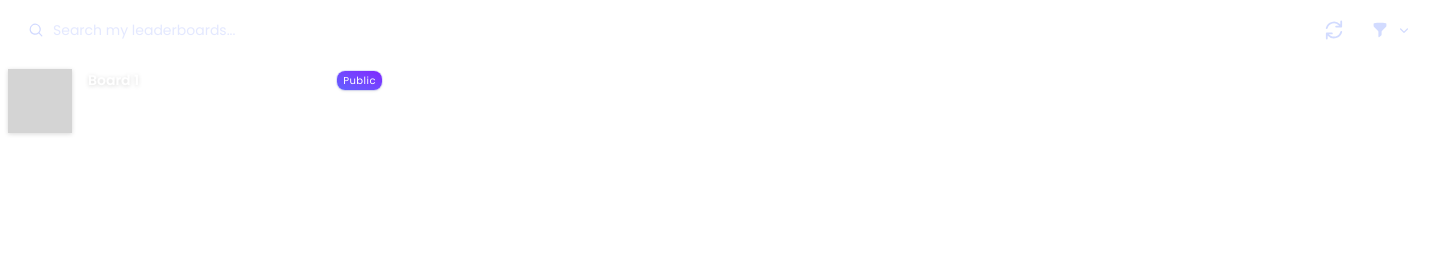
Test: LeaderboardMy.vue › opens filter menu when clicked
What coordinates should you click on to do the following:
click the button named "Filter"
I would click on:
 (1392, 30)
Its box is [1360,16,1424,44].
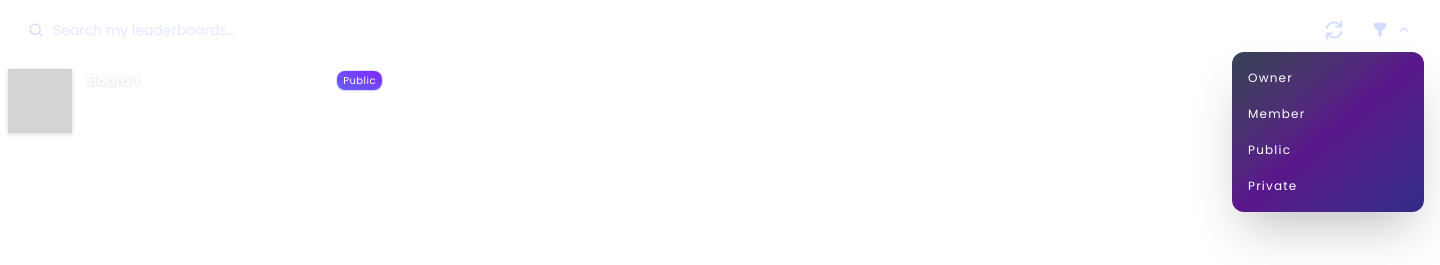
expect the text "Public" is shown: met, box [1248,142,1291,158]
expect the text "Owner" is shown: met, box [1248,70,1293,86]
expect the text "Private" is shown: met, box [1248,178,1297,194]
